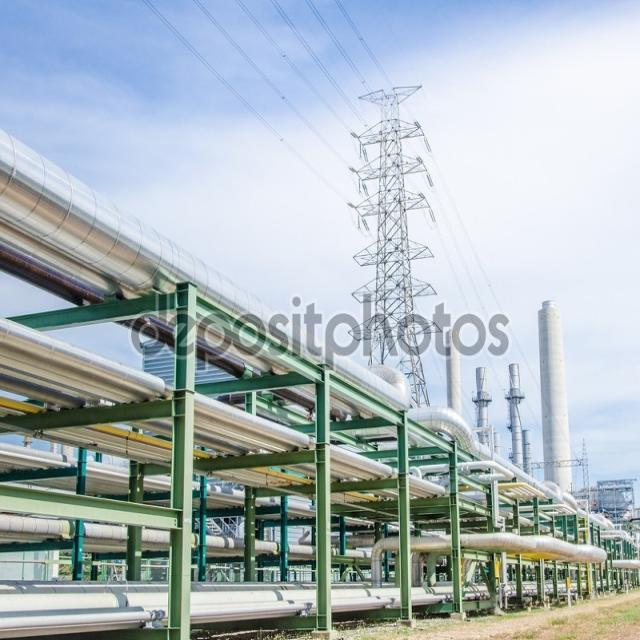non-critical vegetation: (326, 65, 466, 396)
